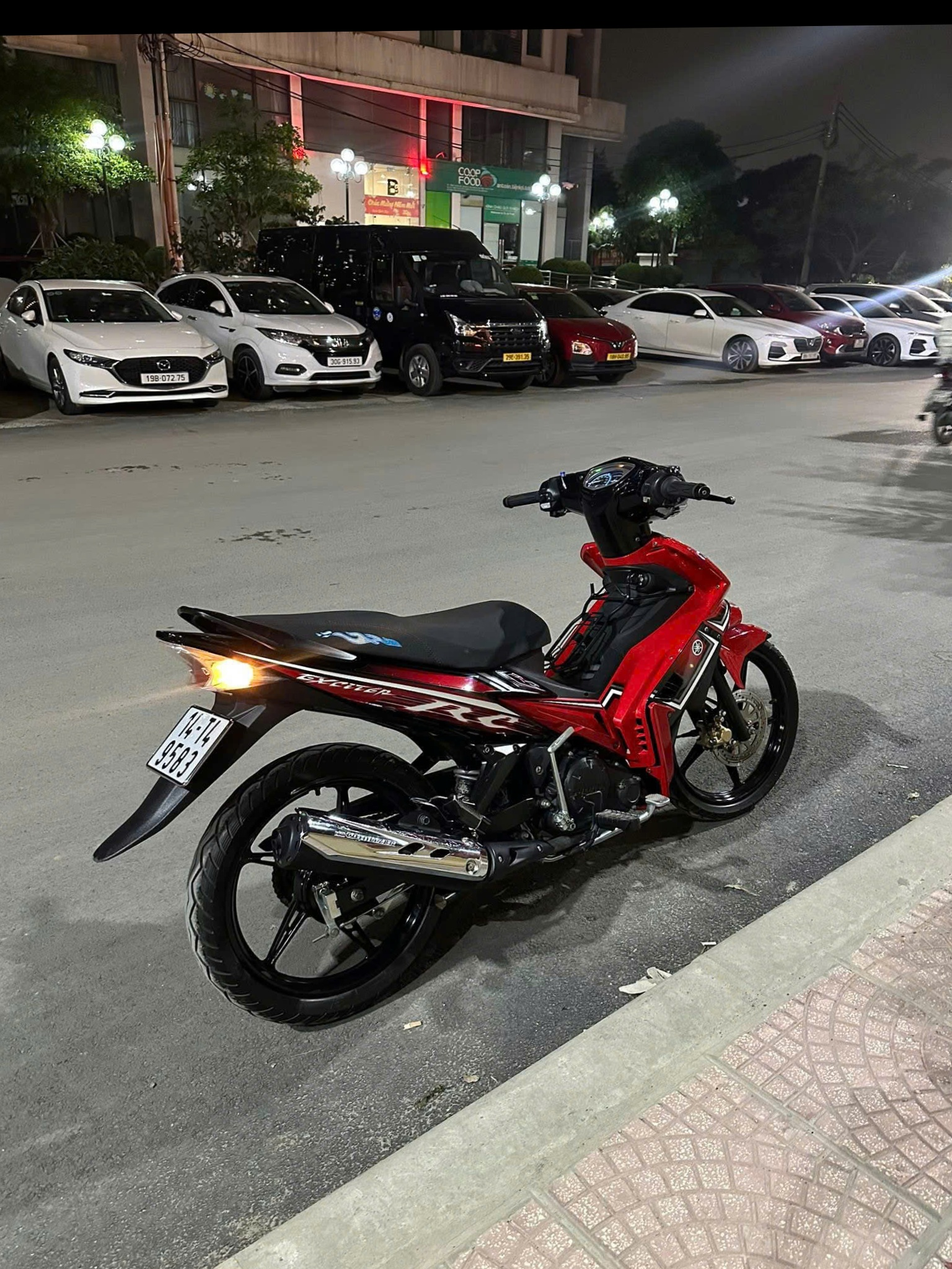Bien-so: (152, 676, 235, 752)
